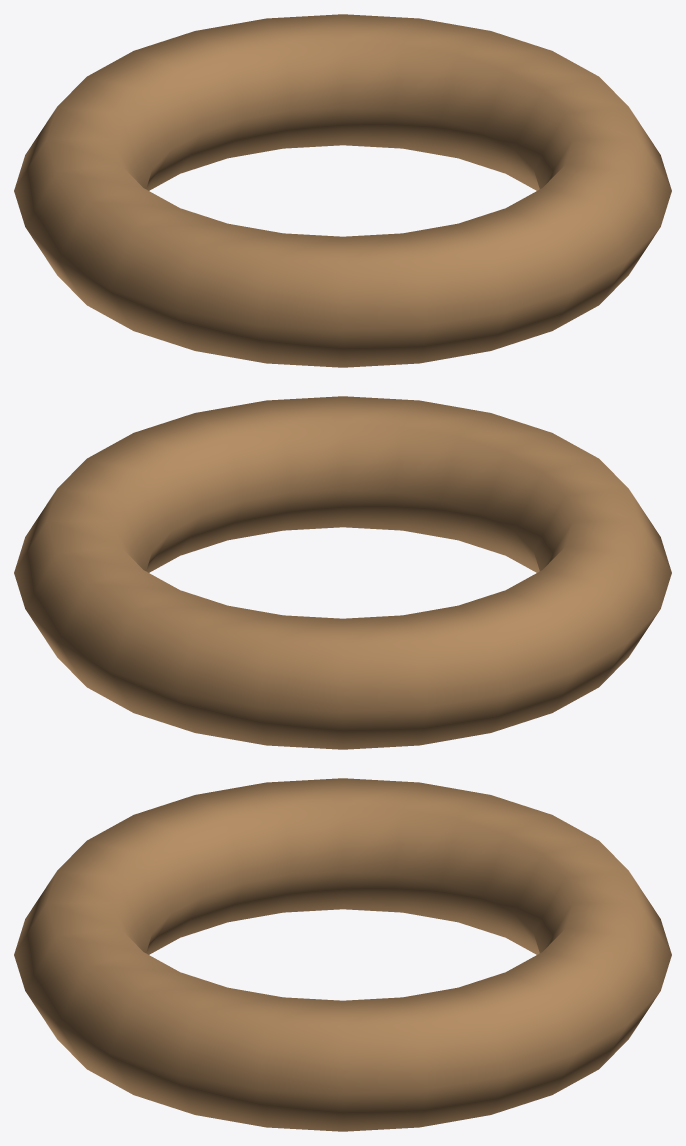
File: PunchingBallRingProjectile.fbx
The picture shows the model from 3 angles, top to bottom: view 1: azimuth 30°, elevation 25°; view 2: azimuth 150°, elevation 25°; view 3: azimuth 270°, elevation 25°; orthographic projection.
Parts seen in each view (by area): view 1: PunchingBallMesh.001; view 2: PunchingBallMesh.001; view 3: PunchingBallMesh.001.
Part boxes in pixels (x1,y1,x2,y2): PunchingBallMesh.001: [14, 14, 671, 367]; PunchingBallMesh.001: [14, 396, 671, 749]; PunchingBallMesh.001: [14, 778, 671, 1131].
Bounding box in the file's own units: 245 × 42.48 × 245.
